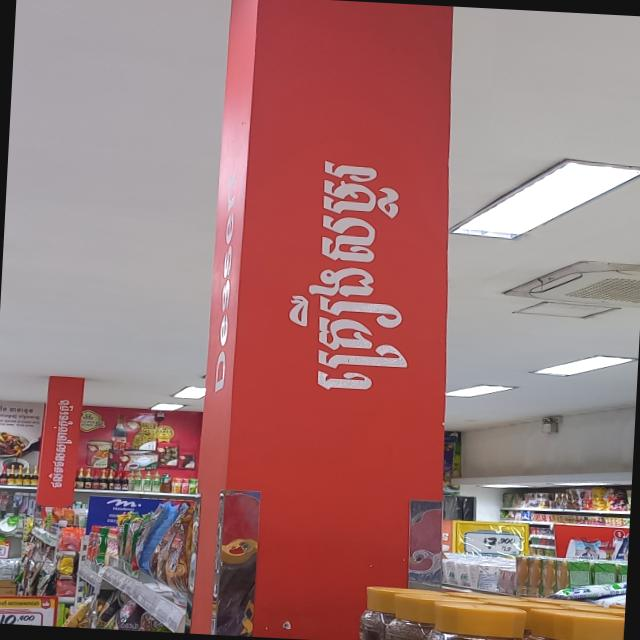Yolov11_80vkh: (272, 149, 423, 406), (45, 396, 76, 489)
